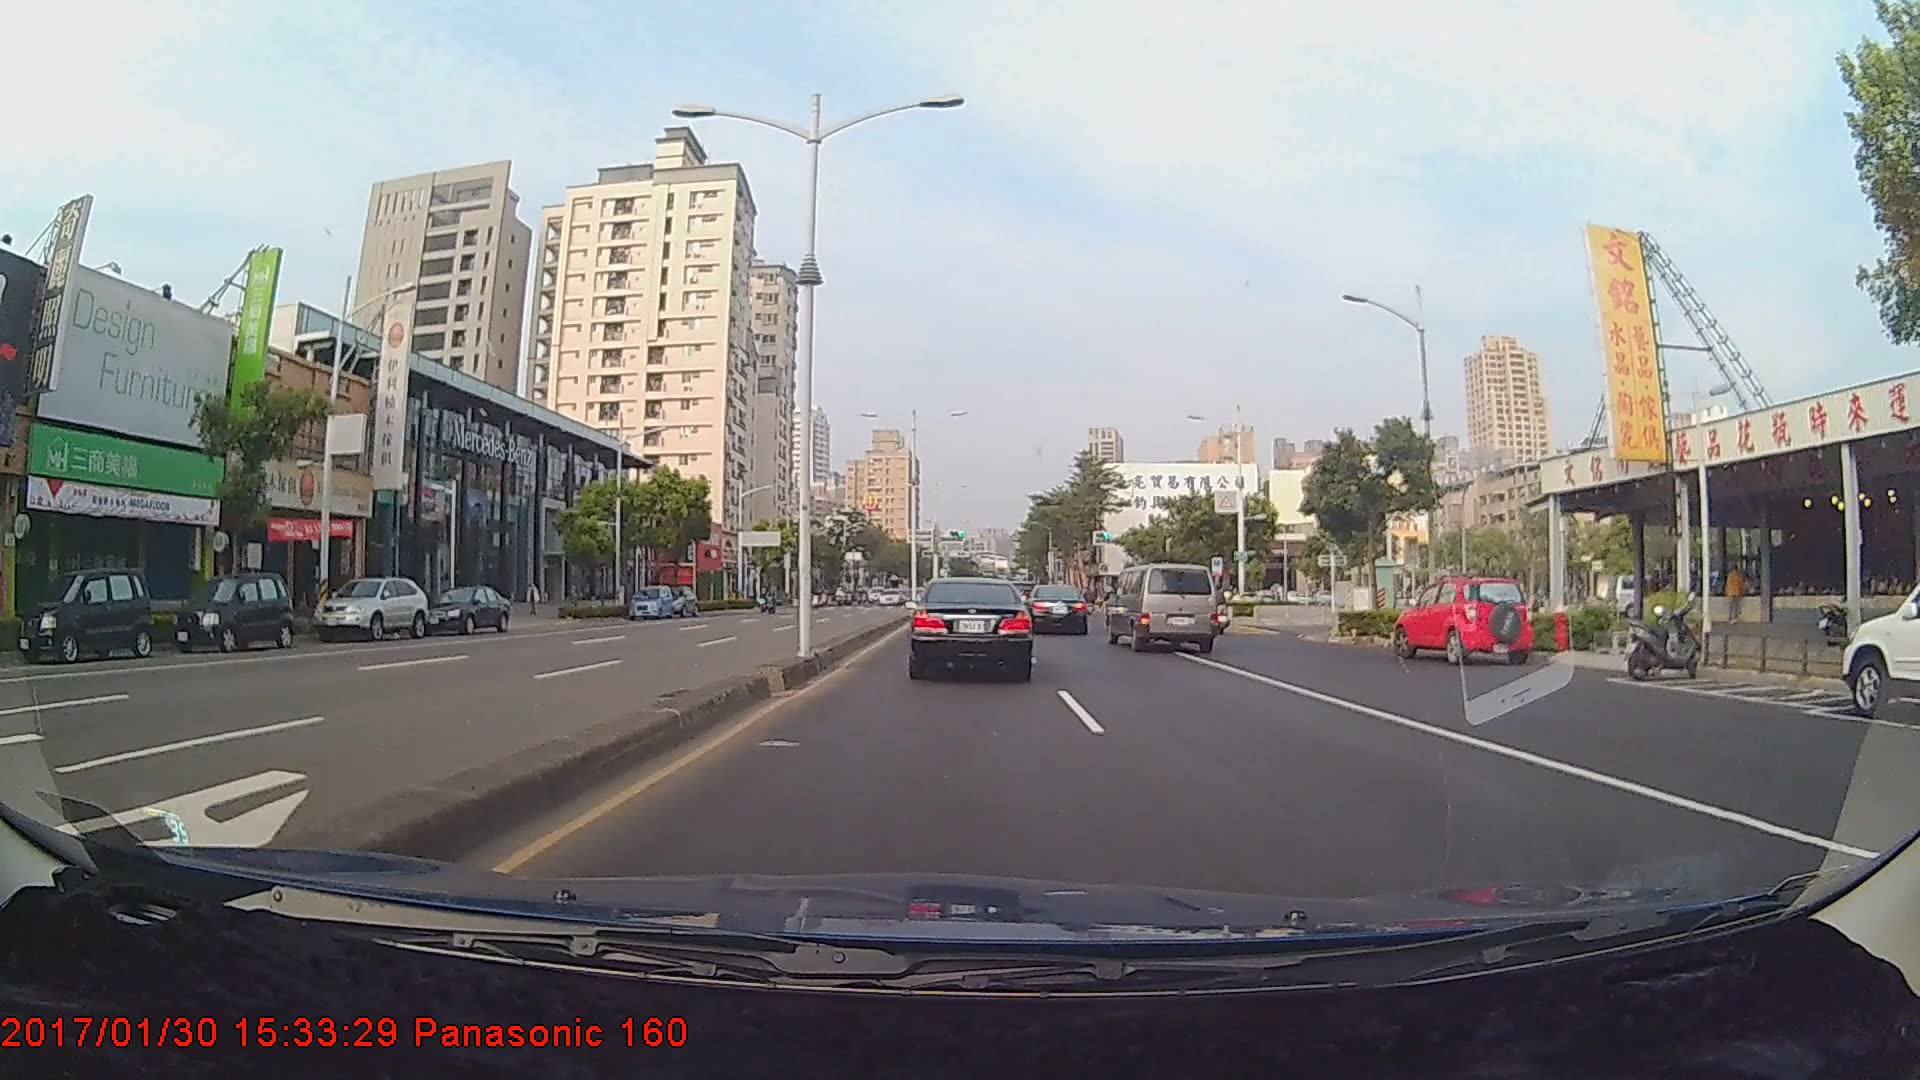pedestrian: (1726, 561, 1751, 631)
vehicle: (906, 575, 1035, 681), (16, 566, 154, 663), (1398, 573, 1529, 668), (1840, 571, 1918, 723), (1105, 562, 1220, 653), (186, 573, 293, 653), (317, 576, 430, 642), (422, 582, 509, 633), (1026, 584, 1090, 636), (627, 582, 673, 620), (657, 584, 700, 617)
